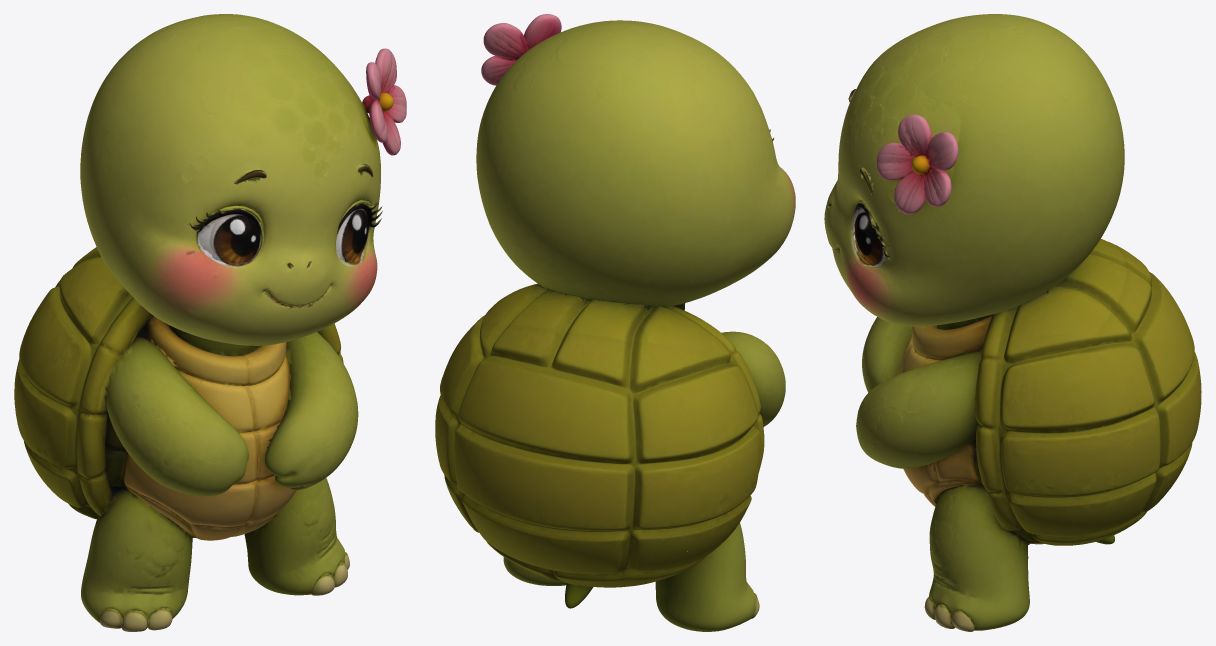
Rendered from tartaruga.glb.
3 renders of one model, left to right at view 1: azimuth 30°, elevation 25°; view 2: azimuth 150°, elevation 25°; view 3: azimuth 270°, elevation 25°, orthographic.
Visible parts, largest first — view 1: tripo_node_9c37cd30-3c72-4076-9793-1c02518f744b; view 2: tripo_node_9c37cd30-3c72-4076-9793-1c02518f744b; view 3: tripo_node_9c37cd30-3c72-4076-9793-1c02518f744b.
Boxes of the visible parts, <box> form: tripo_node_9c37cd30-3c72-4076-9793-1c02518f744b: <box>14,14,406,631</box>; tripo_node_9c37cd30-3c72-4076-9793-1c02518f744b: <box>435,14,795,631</box>; tripo_node_9c37cd30-3c72-4076-9793-1c02518f744b: <box>824,14,1201,631</box>.
Size of the model in its own units: 0.5797 by 0.9794 by 0.6015.
Materials: 1 (1 with a texture image).
